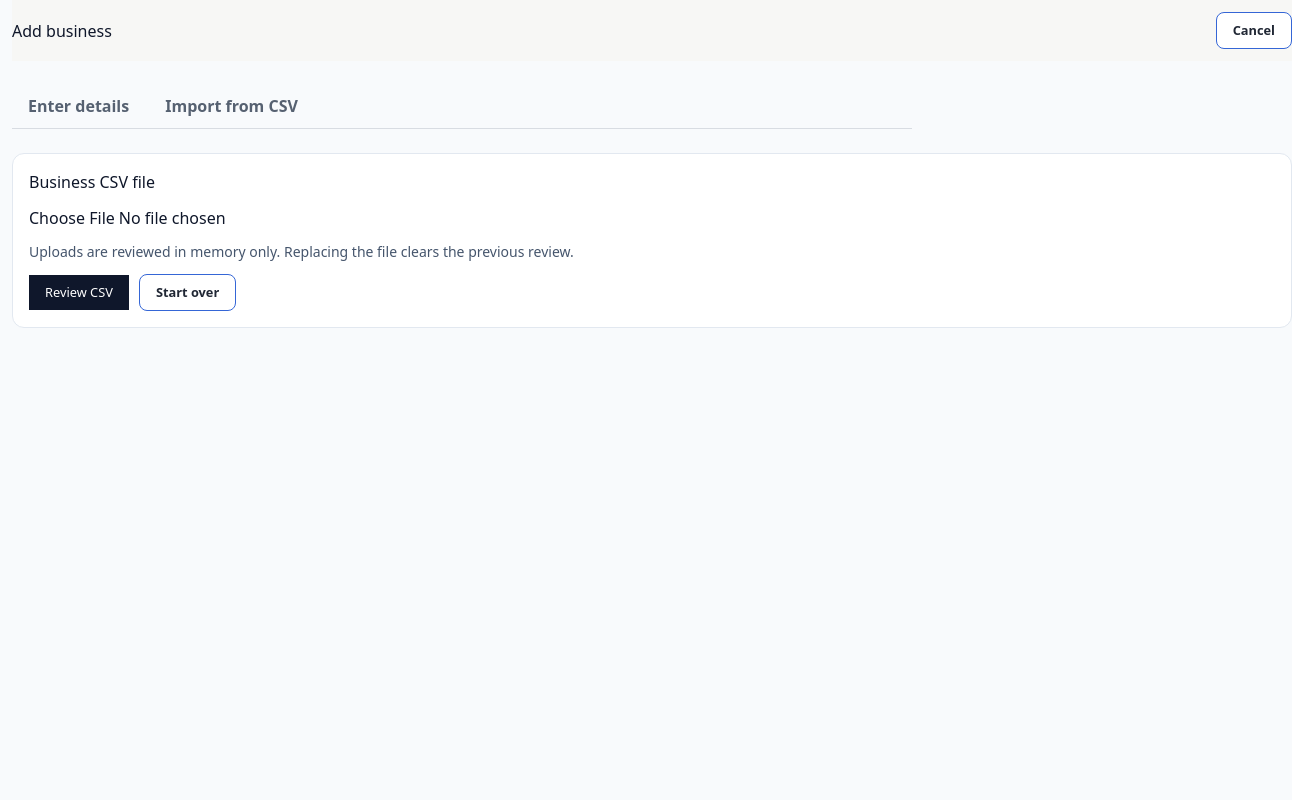
Test case: CSV review UI › clears previous results on failure and cancel
Submit the form labelled "Business CSV file", box [12, 153, 1291, 328]
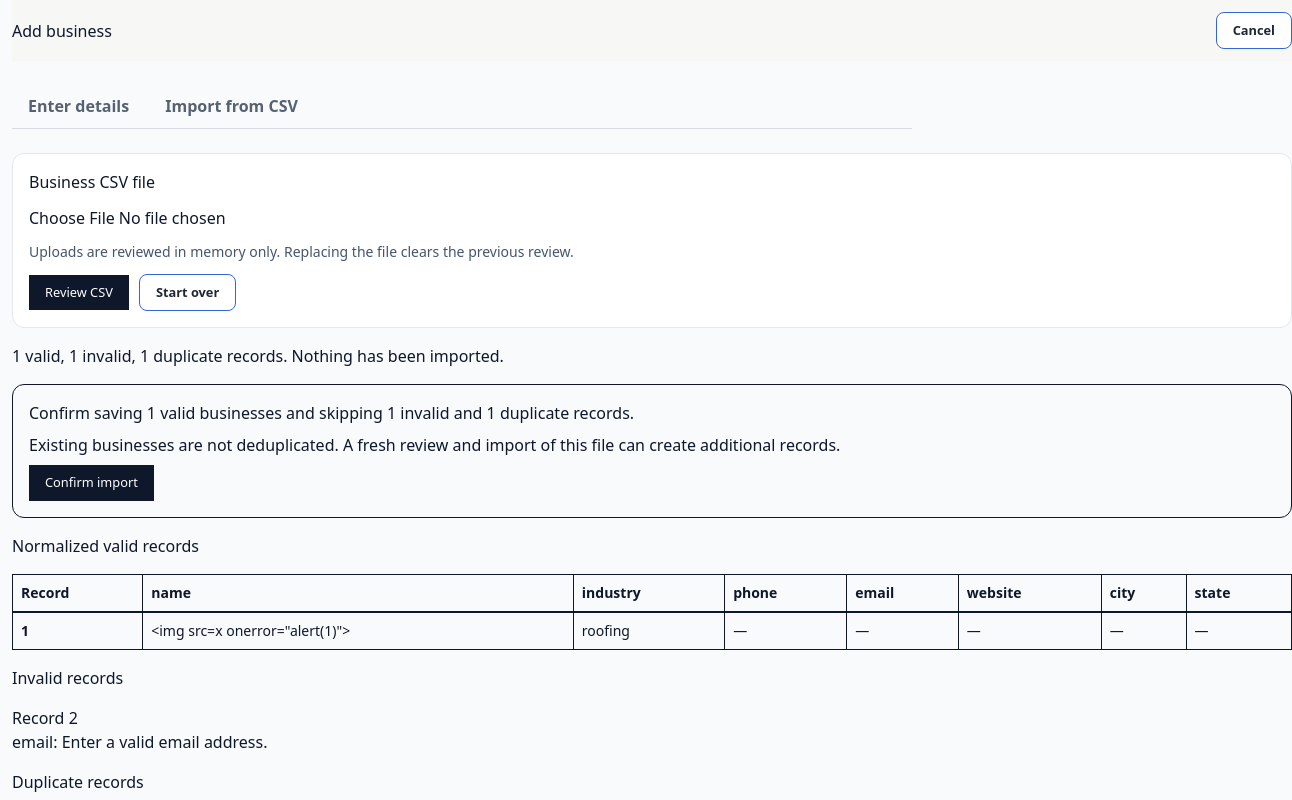
Expected: the text "1 valid, 1 invalid, 1 duplicate records. Nothing has been imported." is shown, [12, 345, 504, 367]
Submit the form labelled "Business CSV file", box [12, 153, 1291, 328]
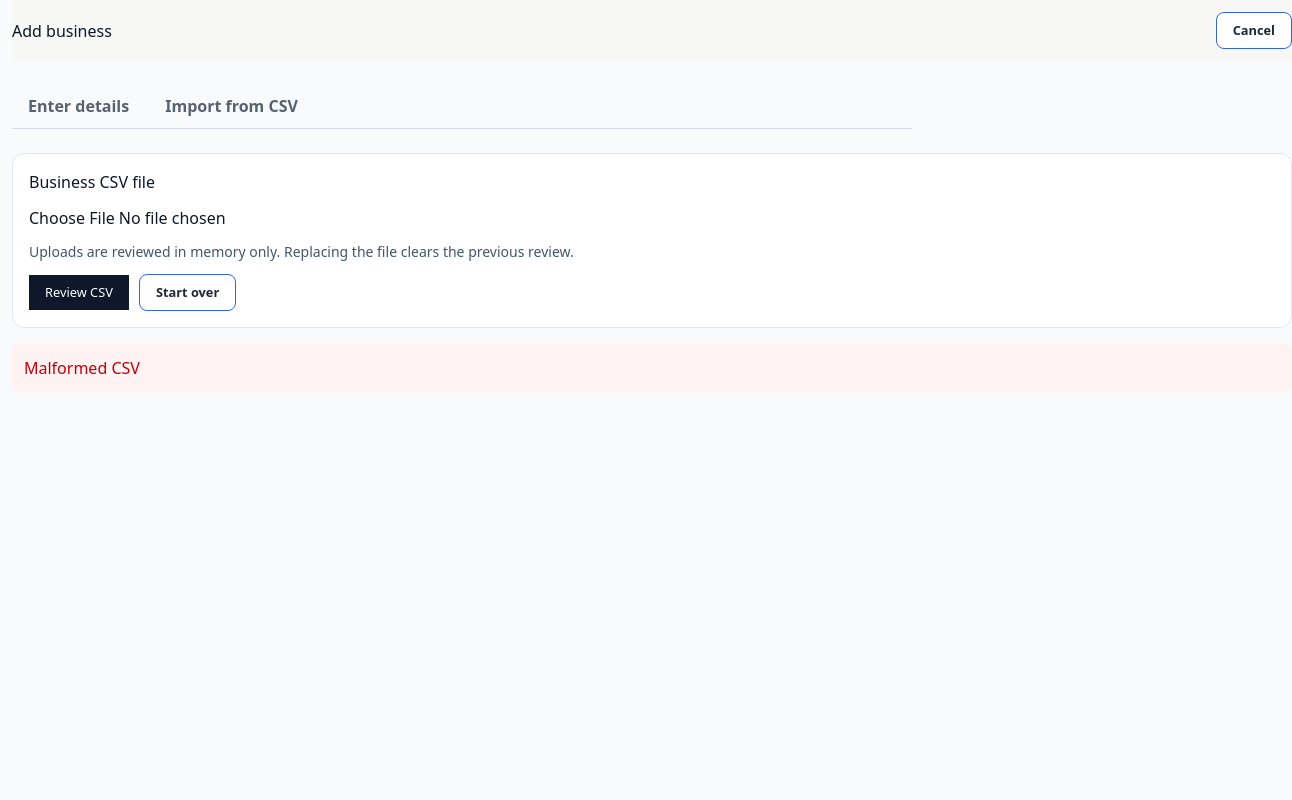
Expected: the message reads "Malformed CSV", [24, 357, 140, 379]
Click the button "Start over" at {"x": 188, "y": 293}, box [139, 274, 236, 311]
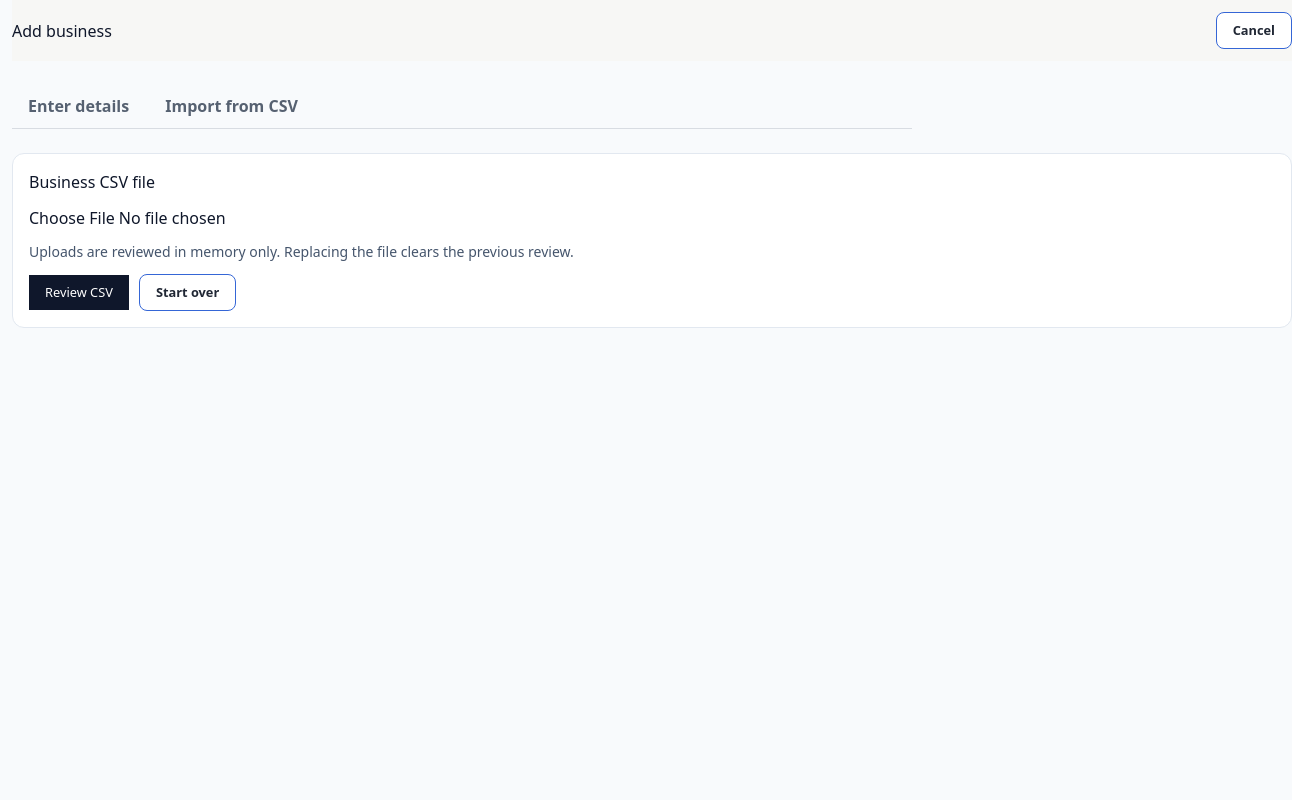
Expected: the message "Malformed CSV" is gone
